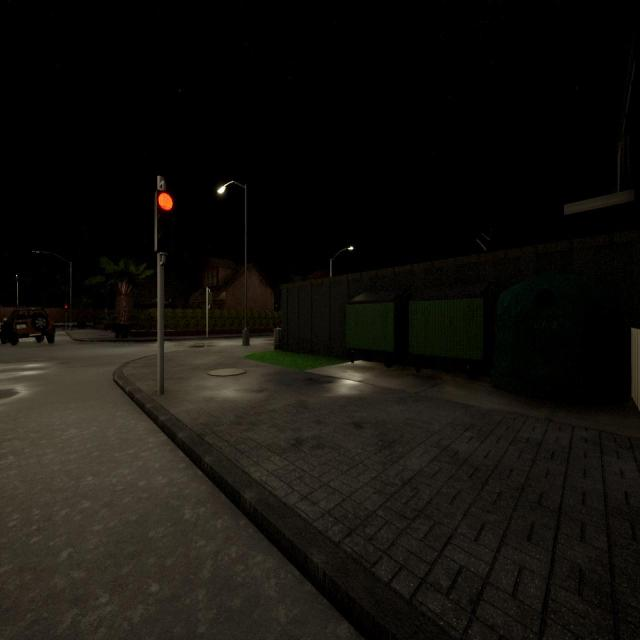Vehicle: (0, 308, 55, 344)
traffic_light: (154, 190, 174, 253), (208, 292, 214, 305), (65, 304, 67, 312)
